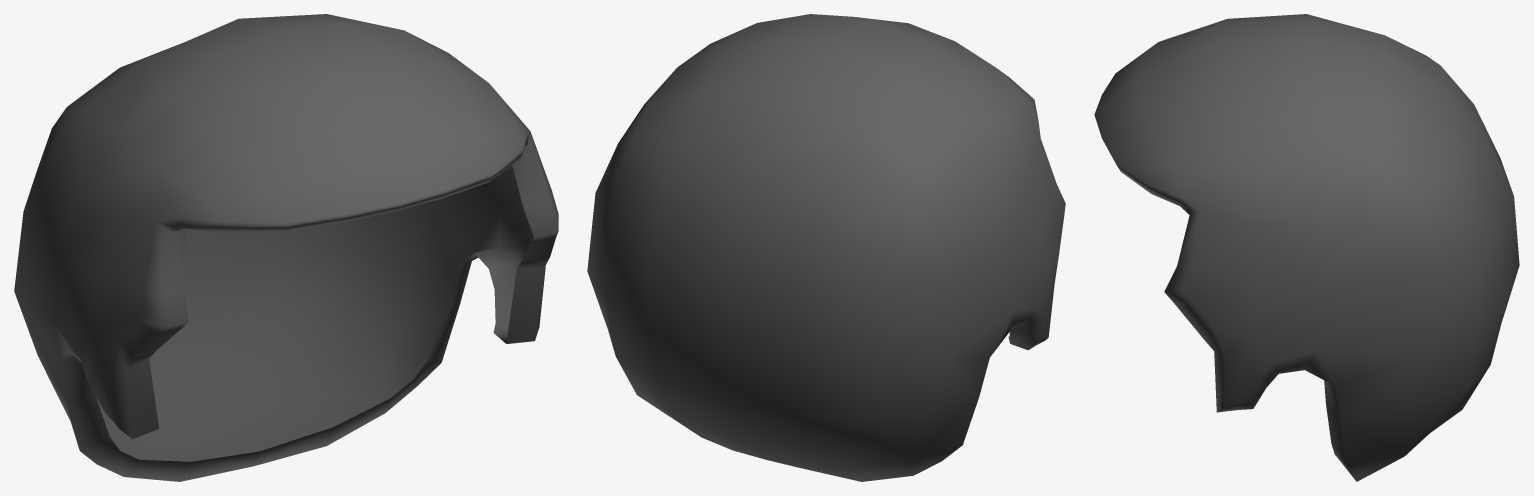
Rendered from Hair_8.fbx.
3 views of the same model, side by side, from view 1: azimuth 30°, elevation 25°; view 2: azimuth 150°, elevation 25°; view 3: azimuth 270°, elevation 25° (orthographic). The views are drawn at different scales.
Parts seen in each view (by area): view 1: Hair_8; view 2: Hair_8; view 3: Hair_8.
Part boxes in pixels (<box>): Hair_8: <box>14,14,558,481</box>; Hair_8: <box>587,14,1065,481</box>; Hair_8: <box>1094,14,1519,481</box>.
Size of the model in its own units: 52.84 by 51.31 by 48.92.
